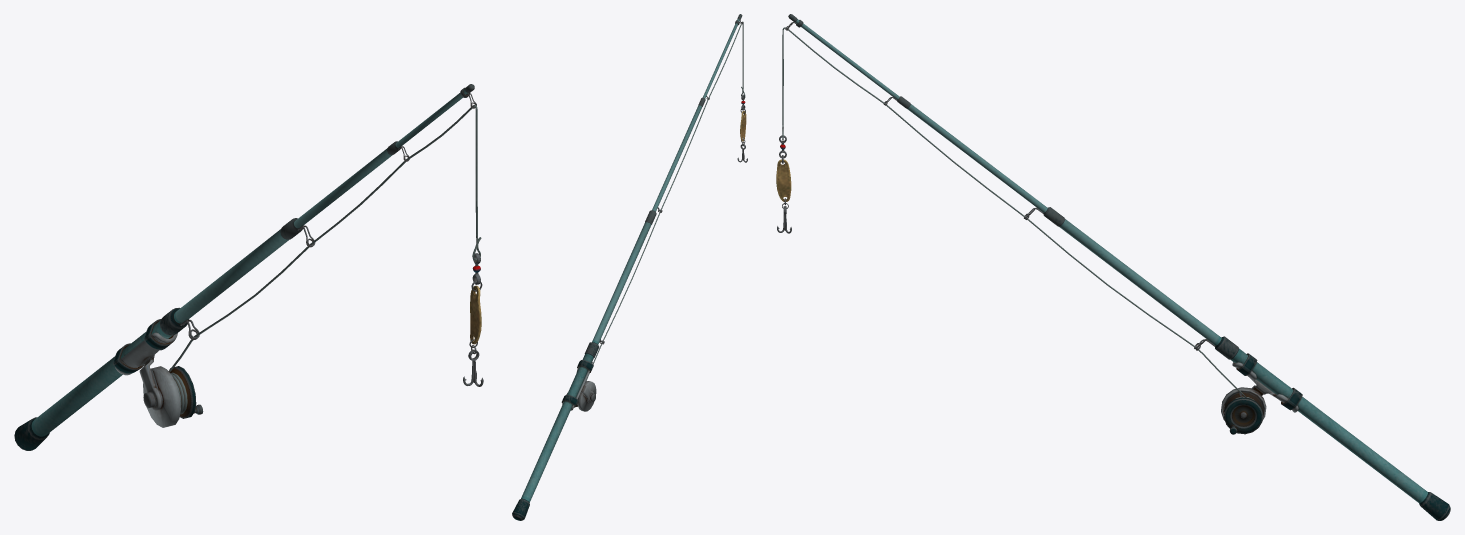
Rendered from Fishing ROad.FBX.
3 renders of one model, left to right at view 1: azimuth 30°, elevation 25°; view 2: azimuth 150°, elevation 25°; view 3: azimuth 270°, elevation 25°, orthographic. The views are drawn at different scales.
Visible parts, largest first — view 1: Fishinh Rof, HOck, rOPE; view 2: Fishinh Rof; view 3: Fishinh Rof.
Part boxes in pixels (x1=…): Fishinh Rof: x1=14, y1=84, x2=477, y2=450; HOck: x1=470, y1=253, x2=482, y2=344; rOPE: x1=463, y1=109, x2=483, y2=386; Fishinh Rof: x1=512, y1=14, x2=743, y2=520; Fishinh Rof: x1=782, y1=14, x2=1450, y2=520.
Size of the model in its own units: 0.1312 by 1.81 by 2.19.
